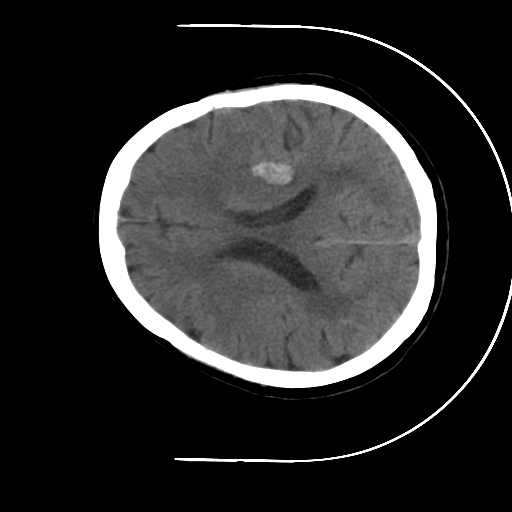a: (243, 153, 302, 193)
